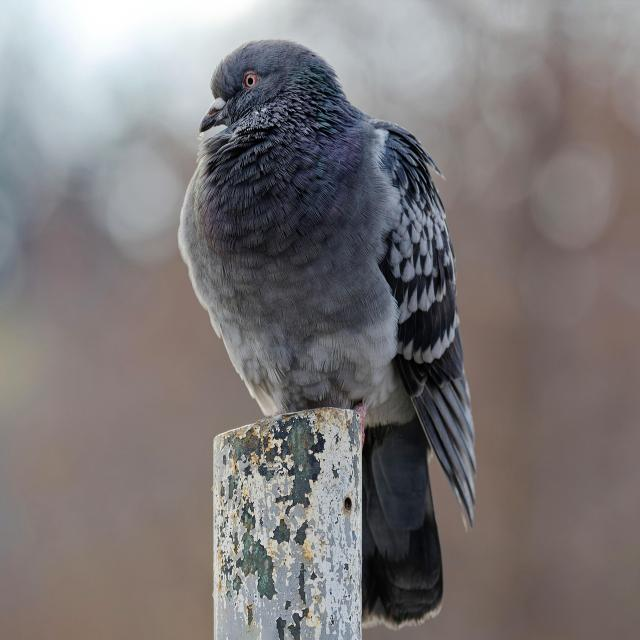pegion: (160, 31, 518, 627)
